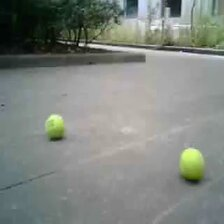tennis: (178, 148, 204, 180), (46, 115, 64, 138)
